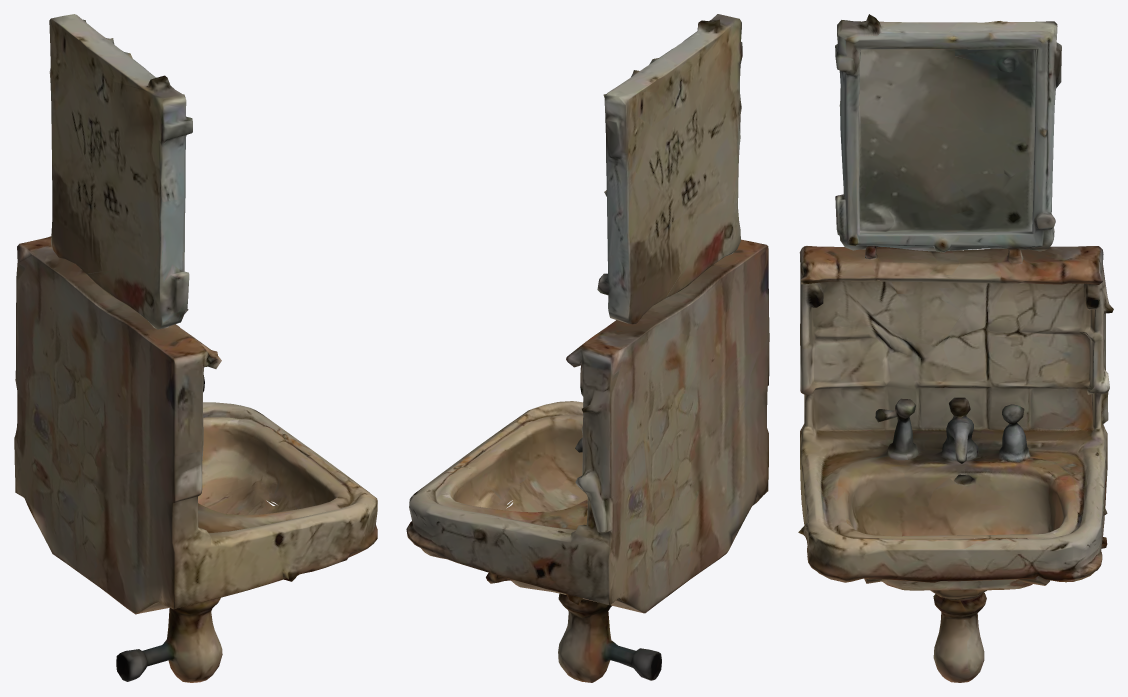
Rendered from mirror.glb.
The picture shows the model from 3 angles, left to right: view 1: azimuth 30°, elevation 25°; view 2: azimuth 150°, elevation 25°; view 3: azimuth 270°, elevation 25°; orthographic projection. The views are drawn at different scales.
Visible parts, largest first — view 1: tripo_node_c658ab15-0c36-4dd7-897f-242516e96b0c; view 2: tripo_node_c658ab15-0c36-4dd7-897f-242516e96b0c; view 3: tripo_node_c658ab15-0c36-4dd7-897f-242516e96b0c.
Part boxes in pixels (x1,y1,x2,y2): tripo_node_c658ab15-0c36-4dd7-897f-242516e96b0c: (14,14,377,682); tripo_node_c658ab15-0c36-4dd7-897f-242516e96b0c: (406,14,769,682); tripo_node_c658ab15-0c36-4dd7-897f-242516e96b0c: (798,14,1113,682).
Bounding box in the file's own units: 0.3661 × 0.9999 × 0.4606.
Materials: 1 (1 with a texture image).
